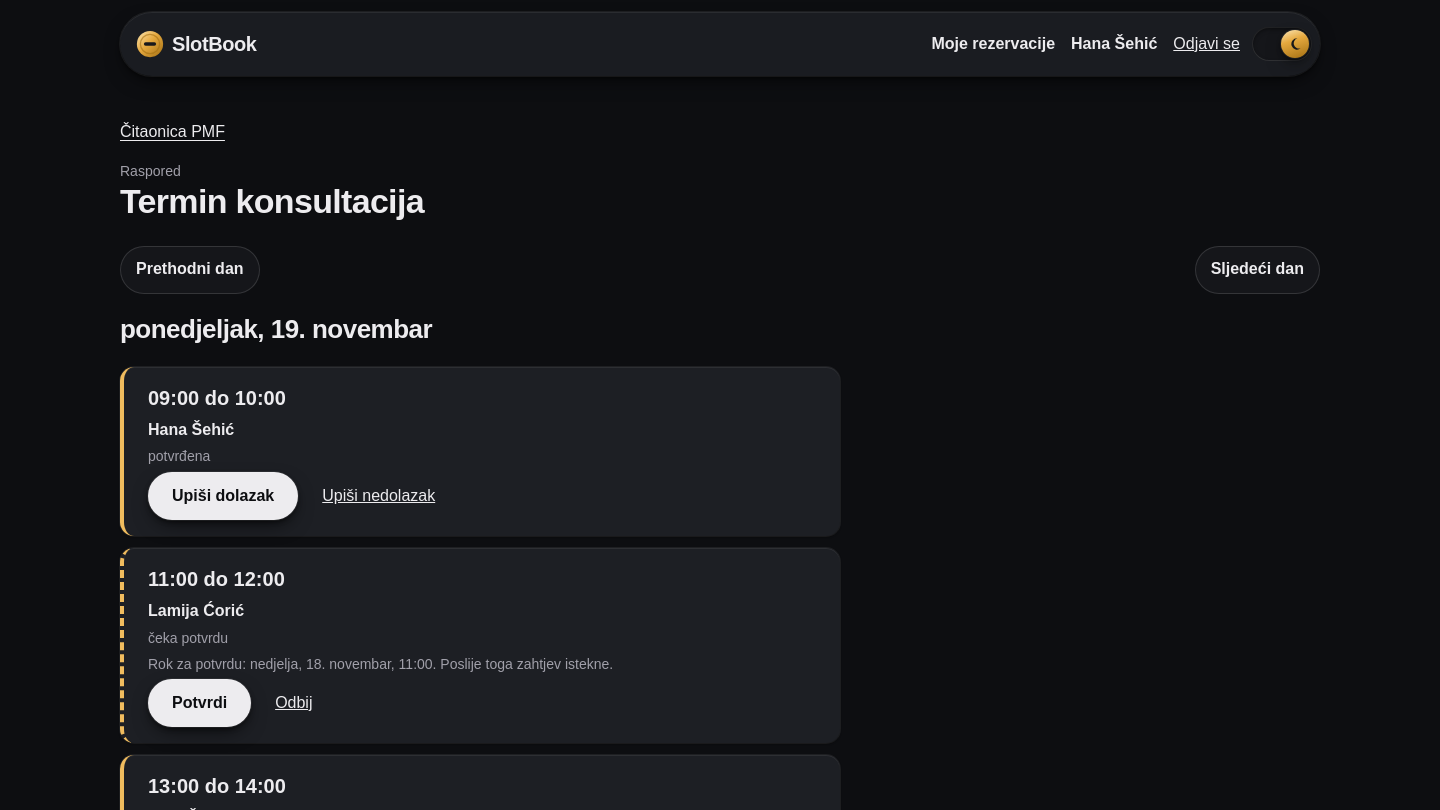
it: promjene › kad je neko drugi već promijenio rezervaciju, piše poruka backenda i lista se osvježi
The width and height of the screenshot is (1440, 810).
Click the button "Potvrdi" at point(200, 703), box x1=148 y1=679 x2=251 y2=727
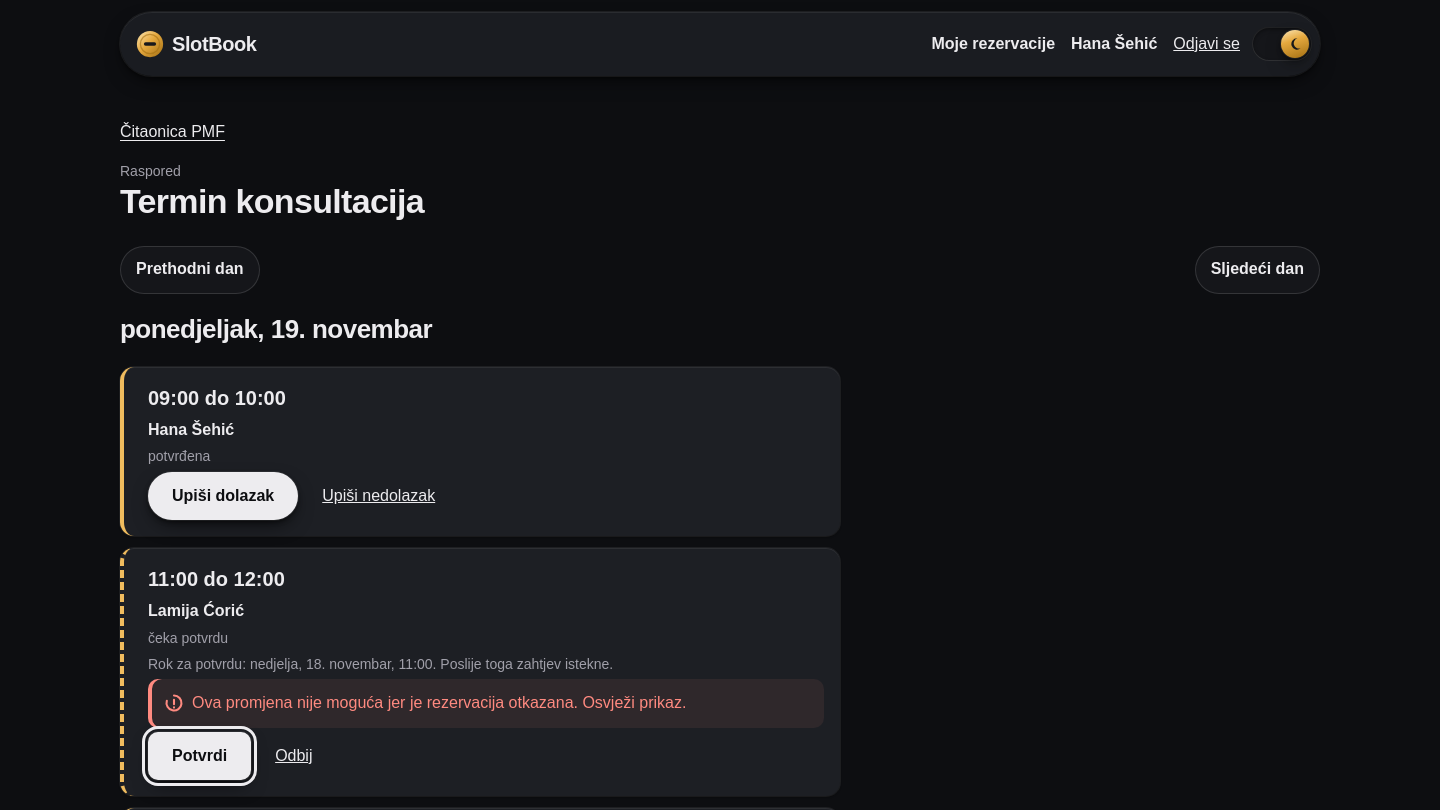
Check: the message shows "rezervacija otkazana", box x1=192 y1=694 x2=686 y2=711
